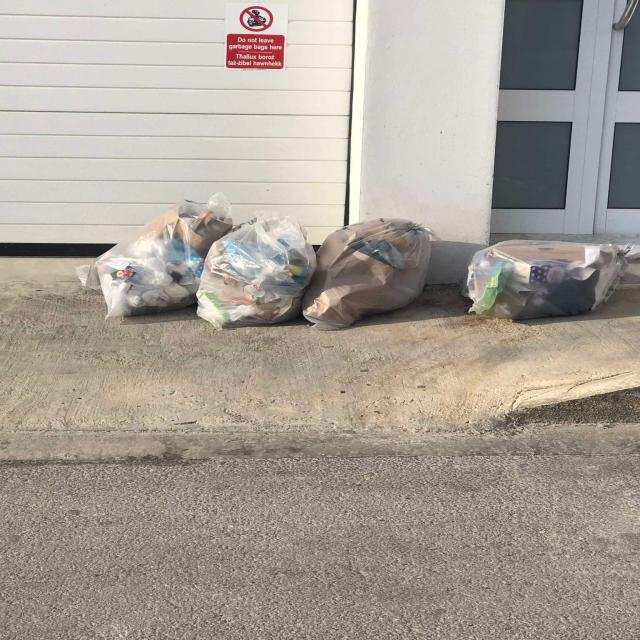Recycled Waste -Grey or Green Bag-: (73, 190, 238, 323), (304, 216, 447, 335), (460, 234, 636, 326), (192, 211, 320, 332)
